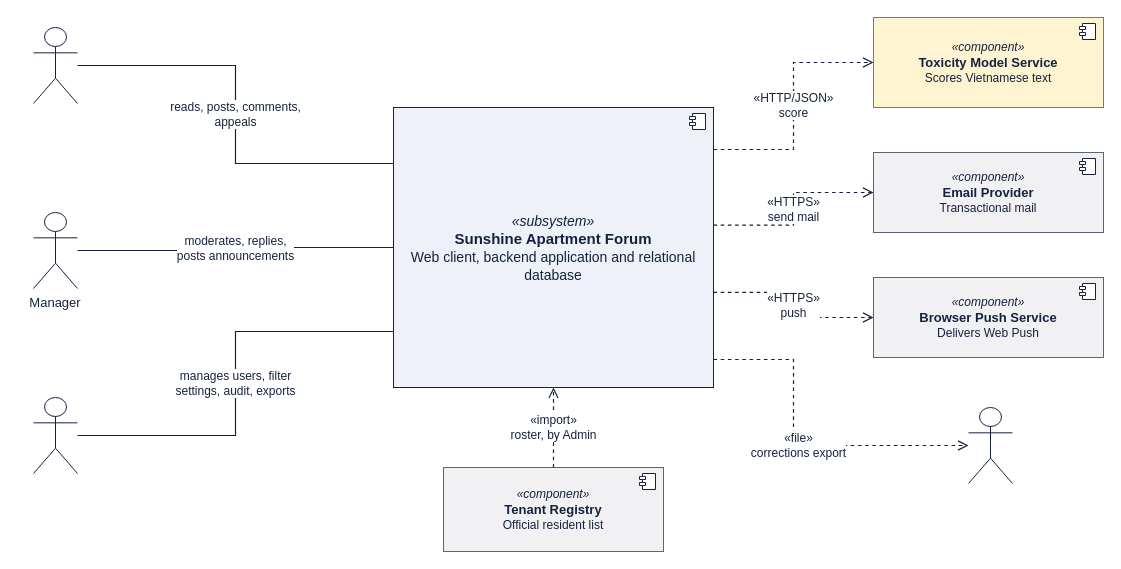
The diagram is 1121 pixels wide and 569 high, and some of its shapes have lost their labels. Here are the shapes that lost their labels. From the top down, the centre of each, then its label:
At point (55, 65): "Resident".
At point (55, 435): "Administrator".
At point (990, 445): "Data Scientist".
